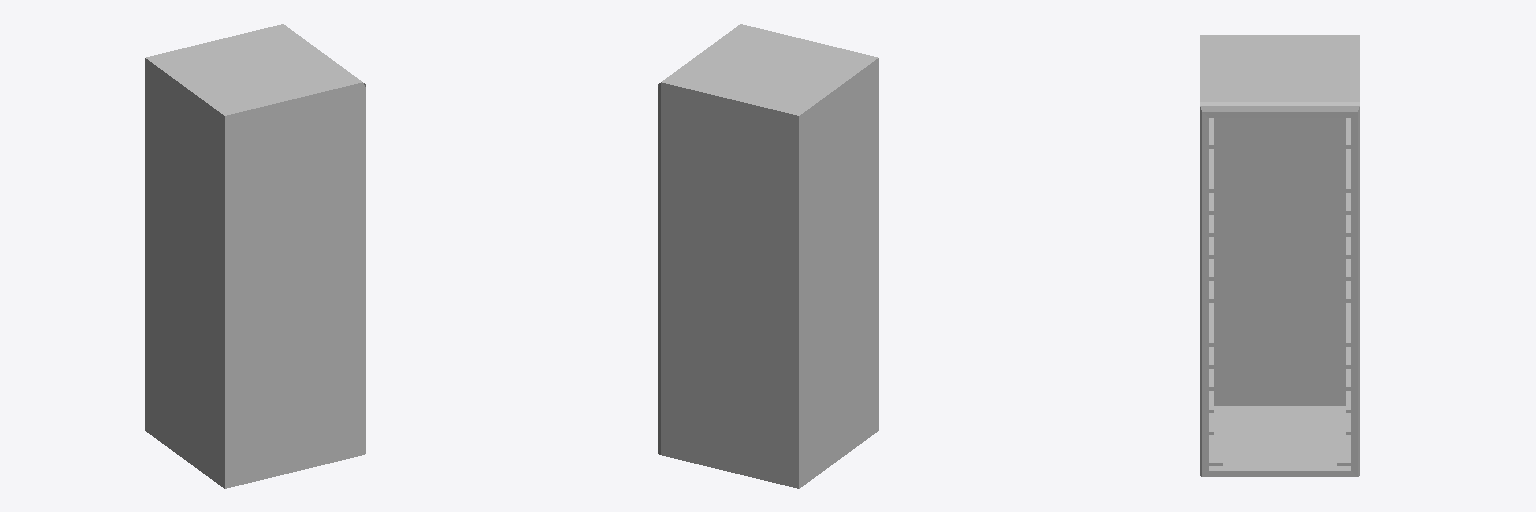
The model's file is rack.obj.
3 renders of one model, left to right at view 1: azimuth 30°, elevation 25°; view 2: azimuth 150°, elevation 25°; view 3: azimuth 270°, elevation 25°, orthographic.
Visible parts, largest first — view 1: rack_Cube1_auv; view 2: rack_Cube1_auv; view 3: rack_Cube1_auv.
Part boxes in pixels (x1,y1,x2,y2): rack_Cube1_auv: (145,24,365,488); rack_Cube1_auv: (658,24,878,488); rack_Cube1_auv: (1200,35,1359,476).
Size of the model in its own units: 2.1 by 5.27 by 2.04.